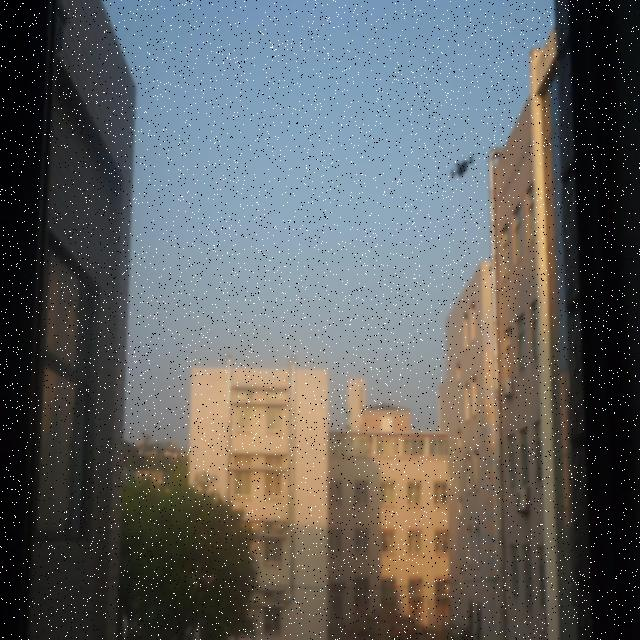UAV: (450, 154, 475, 178)
